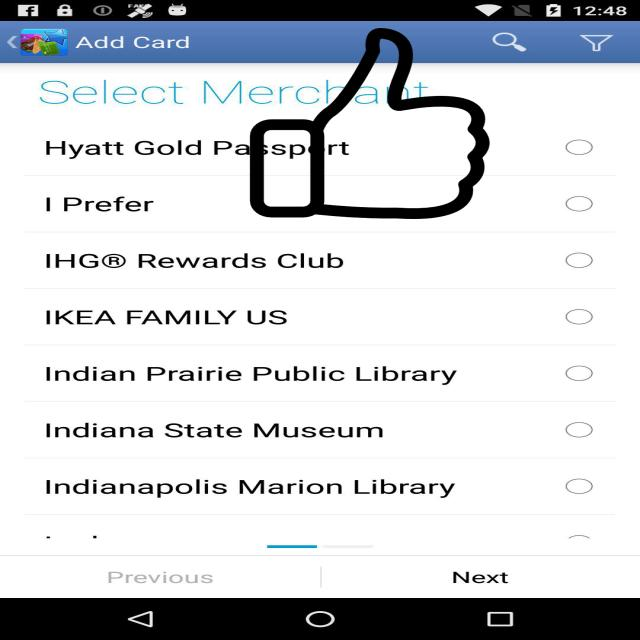privacy zuckering: (247, 28, 493, 219)
